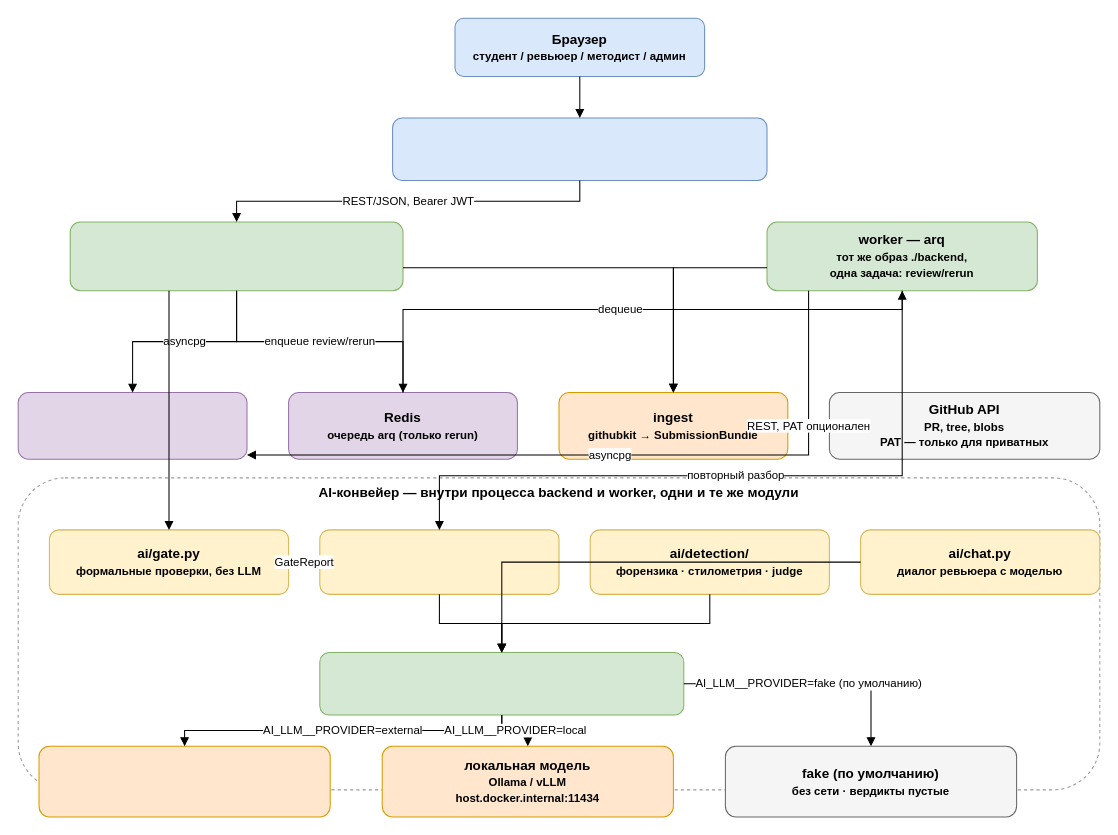
This 1118x835 diagram has some shape labels left out. Here are the shapes that lost their labels. From the top down, the centre of each, then its label:
At [579,148]: "frontend — React SPA nginx, статика · :5173 → :80".
At [236,256]: "backend — FastAPI :8000 · JWT · 9 роутеров".
At [132,425]: "PostgreSQL asyncpg · единственная БД".
At [439,561]: "ai/review/ балл по критериям + цитаты".
At [501,683]: "PrivacyGateway скраб ПДн · роутинг задач · аудит стоимости".
At [184,781]: "внешний провайдер aitunnel / OpenRouter OpenAI-совместимый API".
